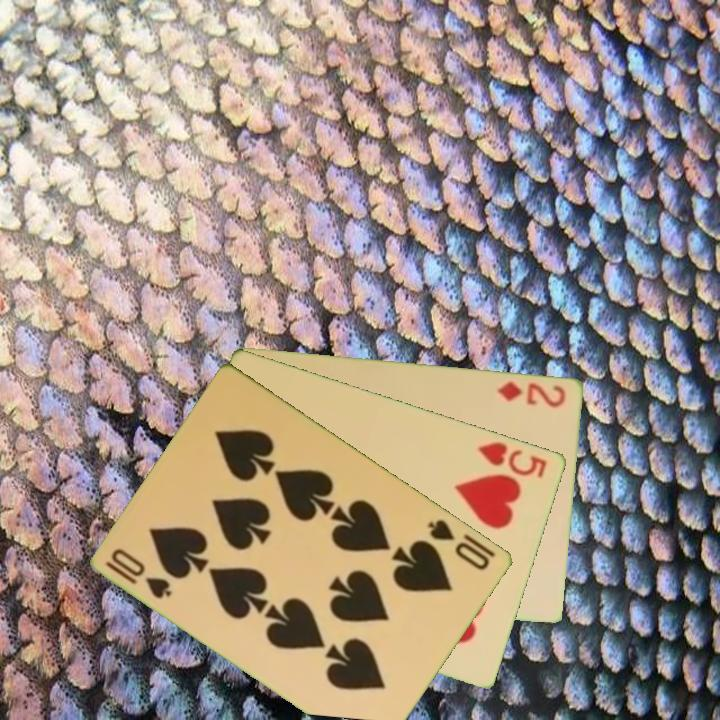10s: (102, 545, 176, 602), (425, 515, 494, 574)
2d: (495, 377, 569, 410)
5h: (475, 437, 550, 481)
